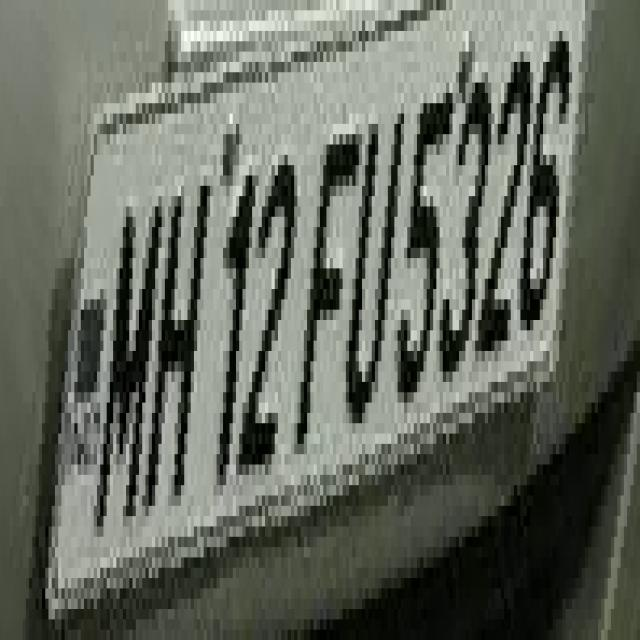license_plate: (22, 20, 640, 547)
